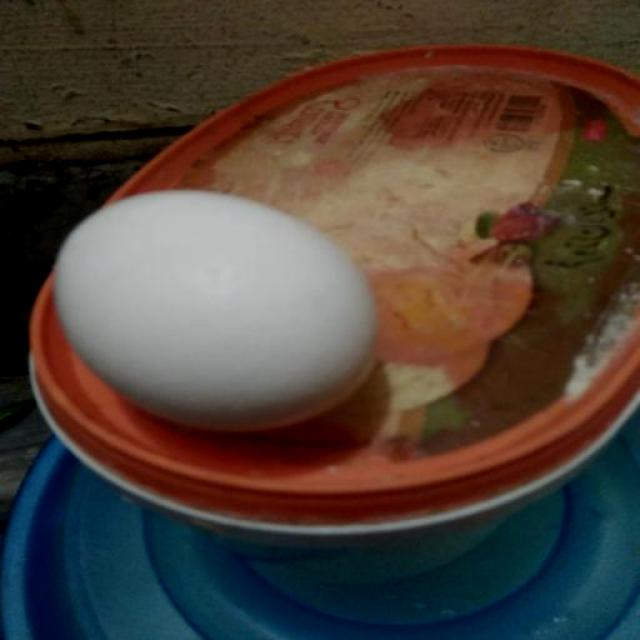telur: (53, 189, 379, 436)
